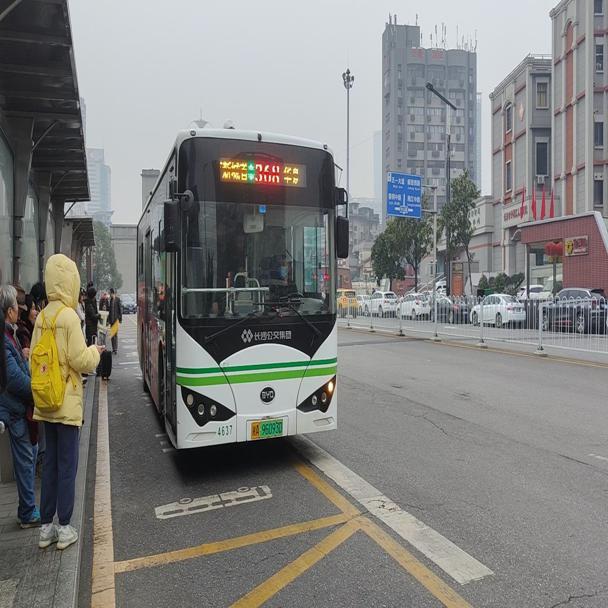bus: (135, 126, 347, 445)
screen: (253, 154, 281, 184)
